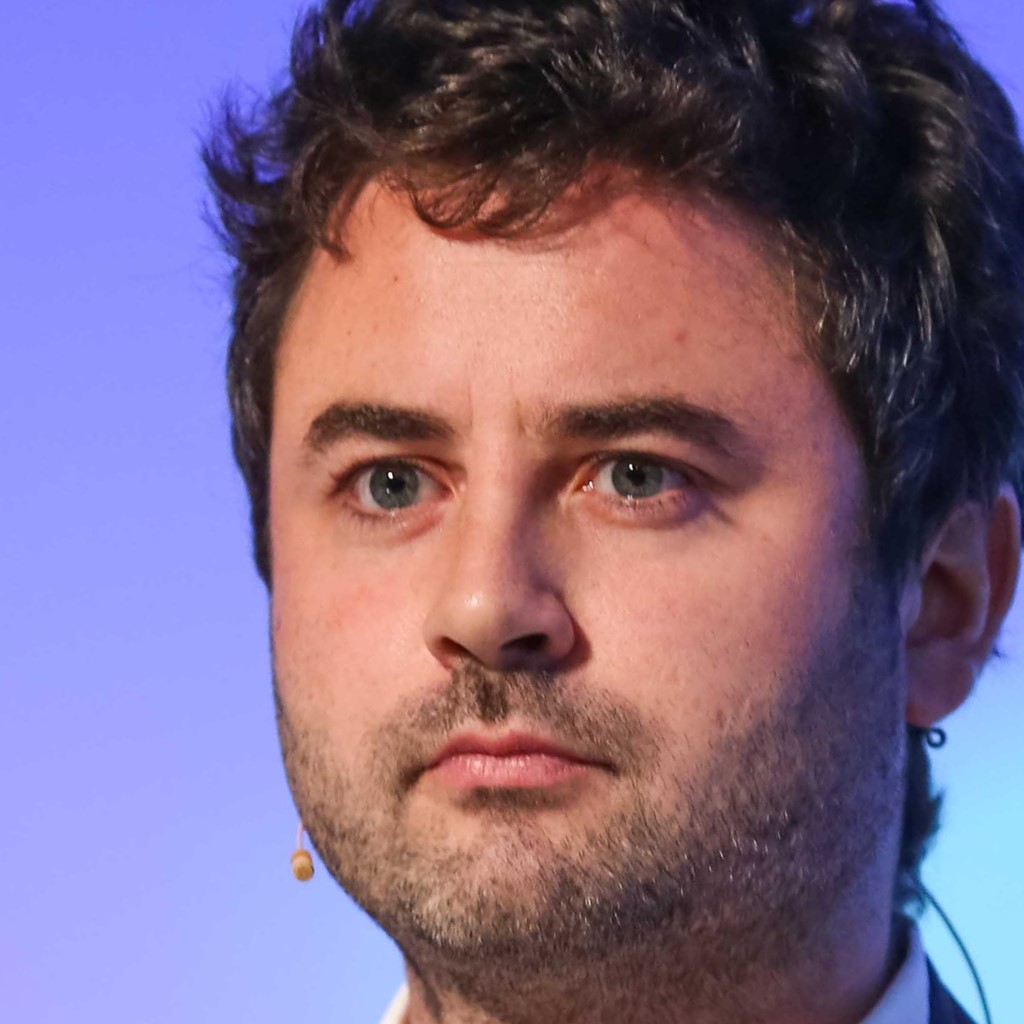sin_mascara: (262, 103, 989, 961)
